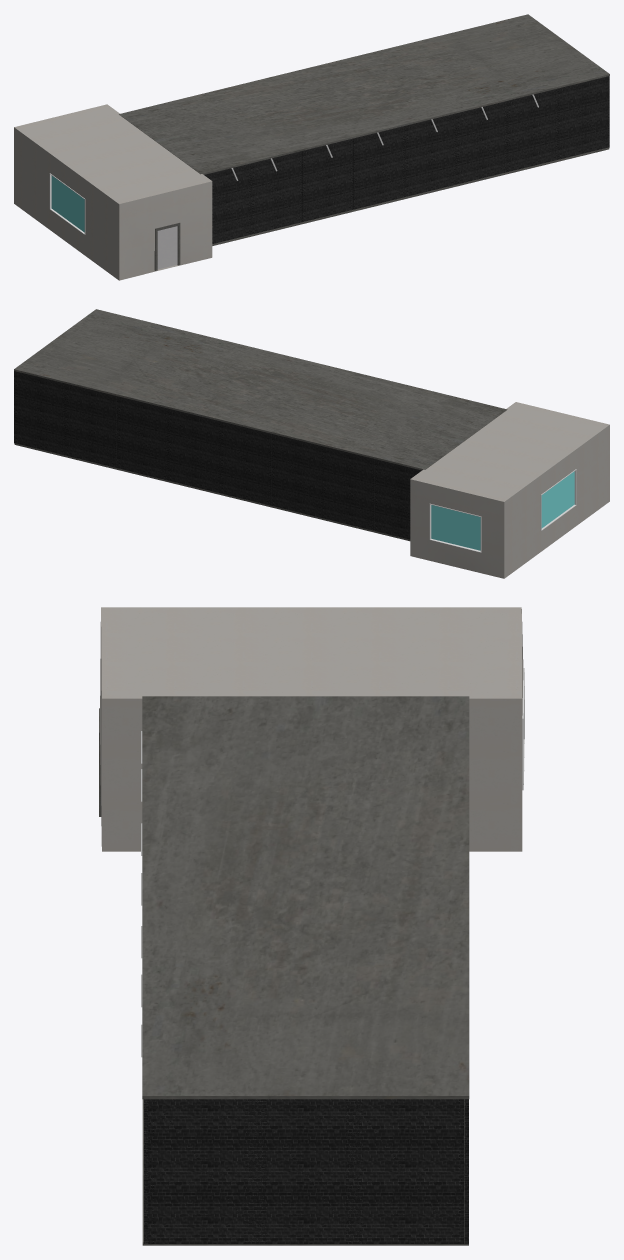
The model's file is shooting arena.fbx.
3 views of the same model, one above another, from view 1: azimuth 30°, elevation 25°; view 2: azimuth 150°, elevation 25°; view 3: azimuth 270°, elevation 25° (orthographic). The views are drawn at different scales.
Parts seen in each view (by area): view 1: Ceiling1, polySurface3, sidewalls15, sidewalls10, sidewalls12, sidewalls11, sidewalls9, sidewalls13, sidewalls14, sidewalls8, Glass_02, Base (+2 smaller); view 2: Ceiling1, polySurface3, sidewalls7, sidewalls1, sidewalls2, sidewalls3, sidewalls6, sidewalls5, sidewalls4, sidewalls, Glass_01, Glass_02 (+2 smaller); view 3: Ceiling1, polySurface3, sidewalls17, sidewalls16, sidewalls18, Base.
Part boxes in pixels (x1=…): Ceiling1: x1=119, y1=14, x2=609, y2=174; polySurface3: x1=14, y1=104, x2=212, y2=280; sidewalls15: x1=558, y1=76, x2=609, y2=159; sidewalls10: x1=302, y1=138, x2=353, y2=221; sidewalls12: x1=405, y1=113, x2=456, y2=196; sidewalls11: x1=353, y1=126, x2=404, y2=209; sidewalls9: x1=251, y1=151, x2=302, y2=234; sidewalls13: x1=456, y1=101, x2=507, y2=184; sidewalls14: x1=507, y1=88, x2=558, y2=171; sidewalls8: x1=204, y1=163, x2=250, y2=243; Glass_02: x1=51, y1=175, x2=84, y2=232; Base: x1=212, y1=147, x2=609, y2=245; Ceiling1: x1=14, y1=309, x2=507, y2=470; polySurface3: x1=410, y1=402, x2=609, y2=578; sidewalls7: x1=14, y1=371, x2=65, y2=455; sidewalls1: x1=323, y1=446, x2=374, y2=530; sidewalls2: x1=271, y1=434, x2=322, y2=518; sidewalls3: x1=220, y1=421, x2=271, y2=505; sidewalls6: x1=65, y1=383, x2=116, y2=467; sidewalls5: x1=117, y1=396, x2=168, y2=480; sidewalls4: x1=168, y1=409, x2=219, y2=492; sidewalls: x1=374, y1=459, x2=421, y2=539; Glass_01: x1=431, y1=505, x2=480, y2=550; Glass_02: x1=541, y1=471, x2=574, y2=528; Ceiling1: x1=142, y1=696, x2=469, y2=1099; polySurface3: x1=100, y1=607, x2=523, y2=851; sidewalls17: x1=148, y1=1099, x2=266, y2=1243; sidewalls16: x1=346, y1=1099, x2=463, y2=1243; sidewalls18: x1=244, y1=1099, x2=362, y2=1243; Base: x1=142, y1=1099, x2=468, y2=1245.
Size of the model in its own units: 3334 by 487 by 1225.
